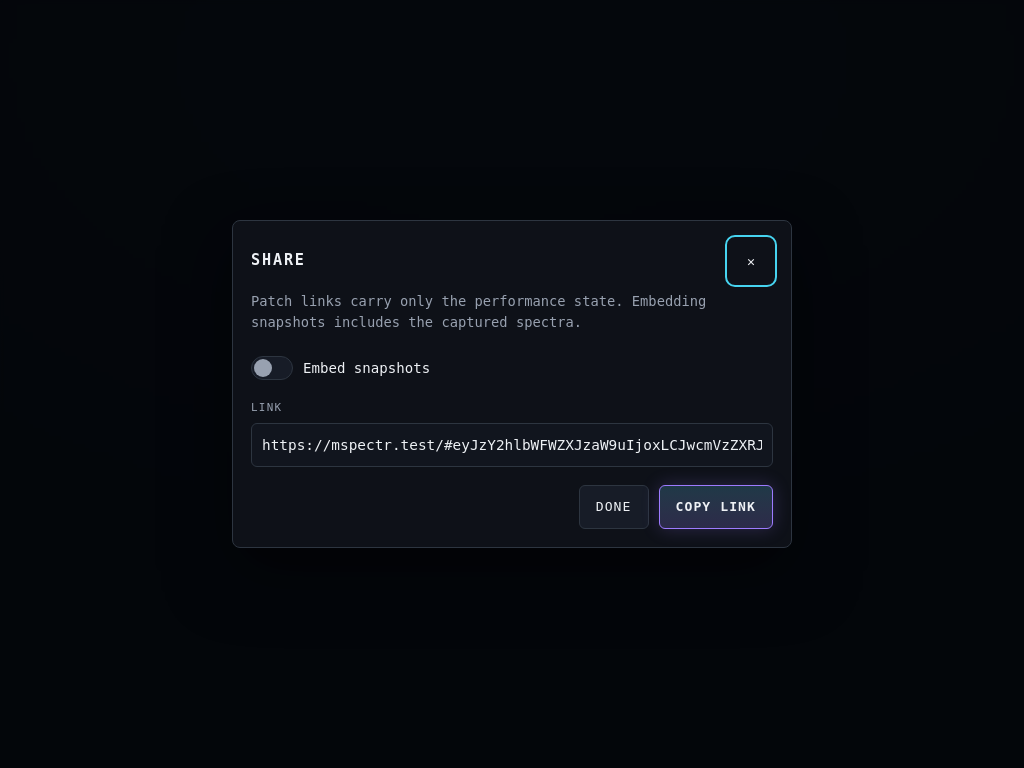
Test: ShareModal › blocks an oversized embedded-snapshot link
Click the checkbox labelled "Embed snapshots" at (341, 368), box [251,356,430,380]
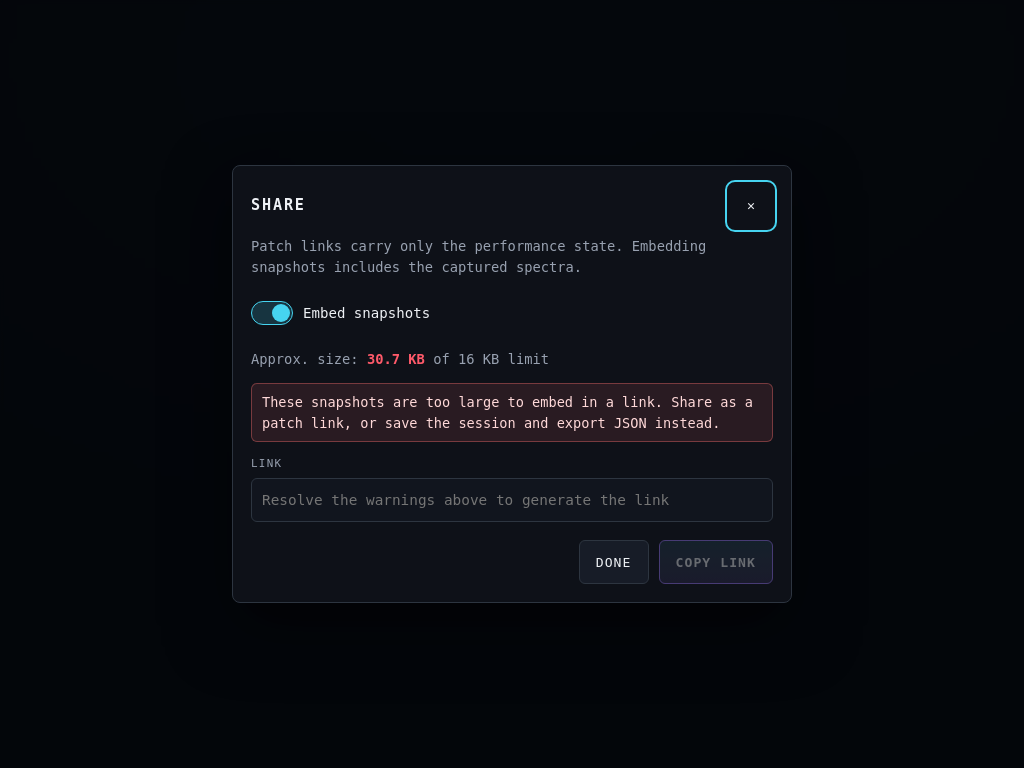
Expected: the message shows "too large", [262,394,753,431]
Expected: the field named "Shareable link" is empty, [251,478,773,522]
